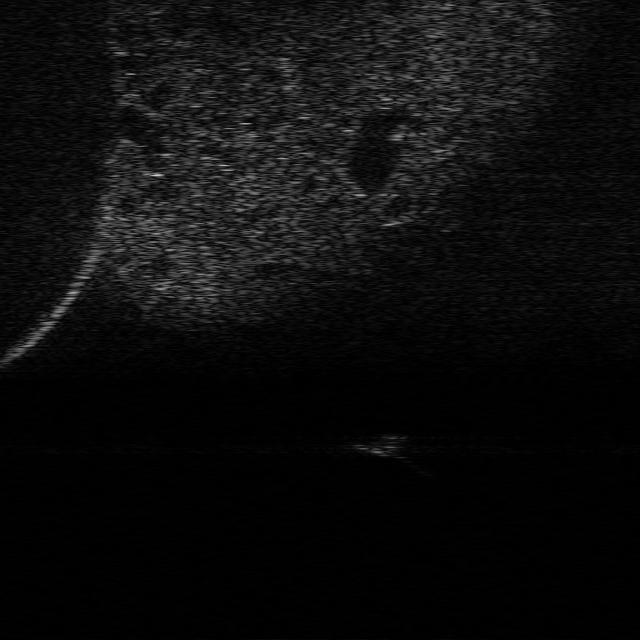cube: (353, 431, 405, 458)
